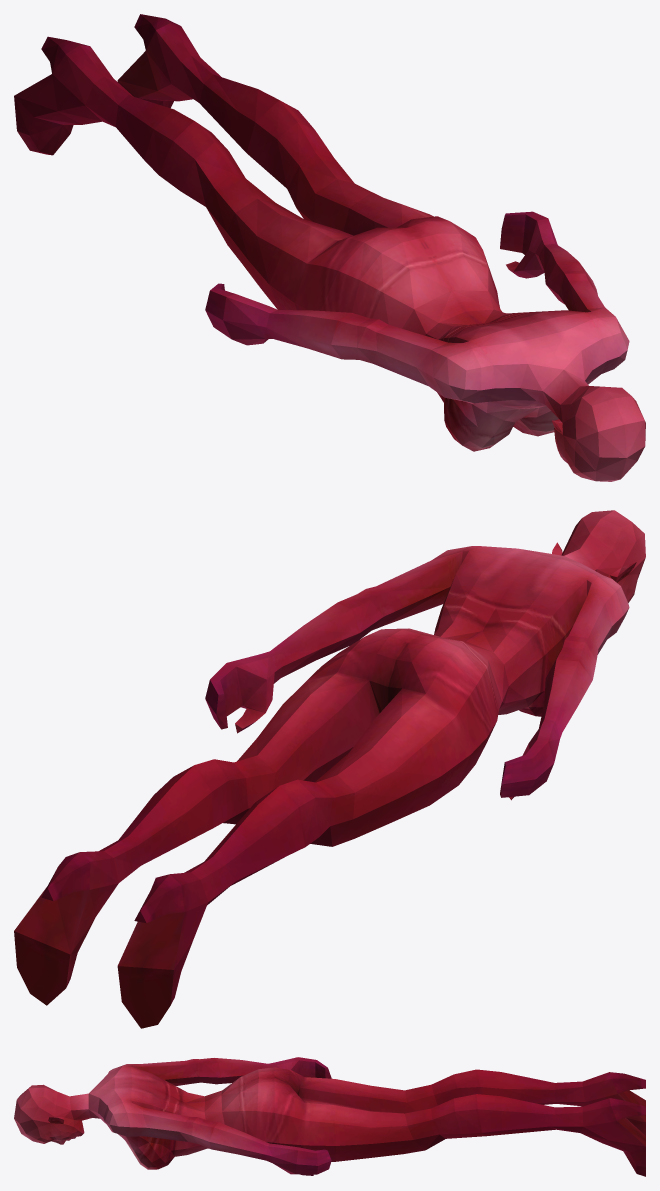
The model's file is xuniren2.obj.
3 renders of one model, top to bottom at view 1: azimuth 30°, elevation 25°; view 2: azimuth 150°, elevation 25°; view 3: azimuth 270°, elevation 25°, orthographic. The views are drawn at different scales.
Parts seen in each view (by area): view 1: xuniren03; view 2: xuniren03; view 3: xuniren03.
Part boxes in pixels (x1,y1,x2,y2): xuniren03: (14, 14, 645, 481); xuniren03: (14, 510, 645, 1028); xuniren03: (14, 1057, 645, 1176).
Size of the model in its own units: 30.09 by 12.72 by 83.83.
Materials: 1 (1 with a texture image).
